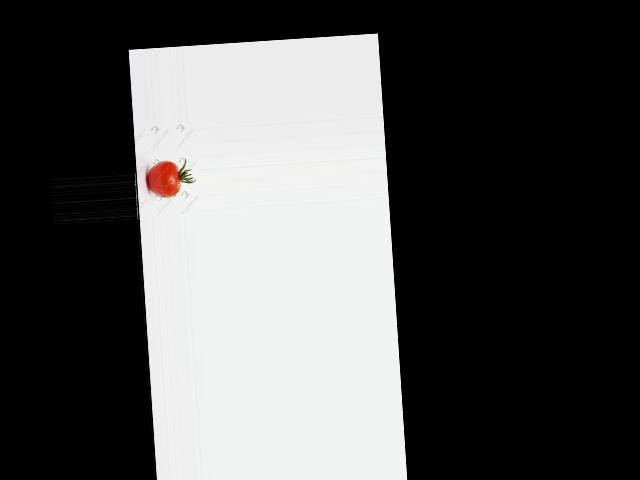tomato: (145, 159, 180, 197)
